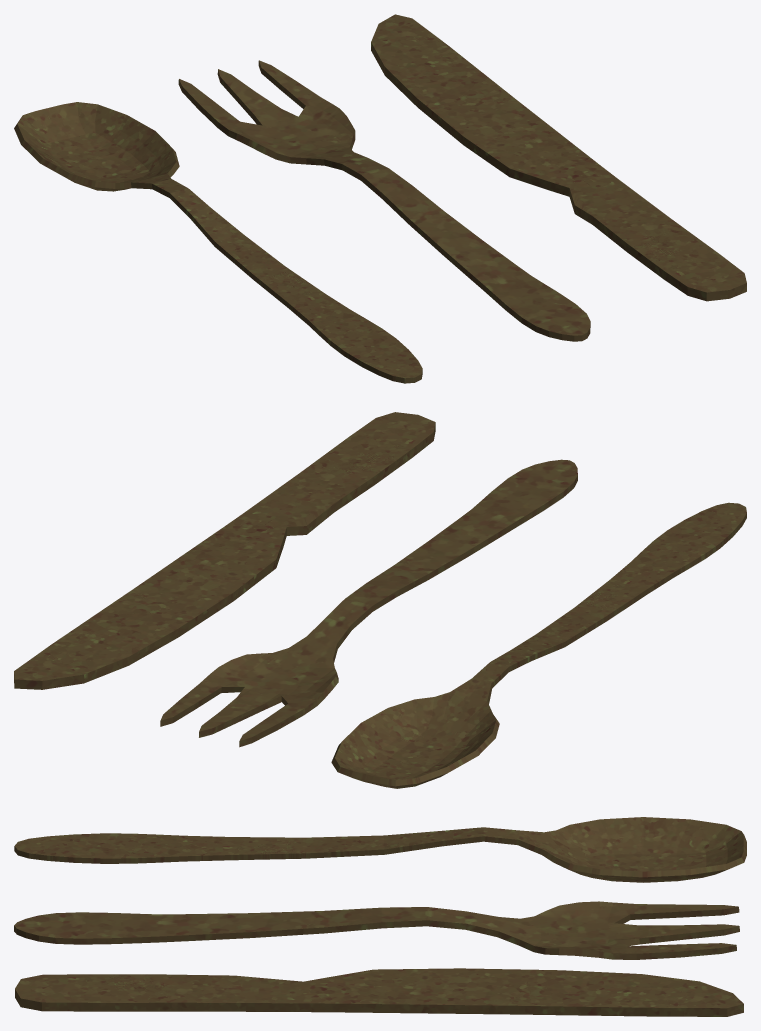
Rendered from utensils.fbx.
3 renders of one model, top to bottom at view 1: azimuth 30°, elevation 25°; view 2: azimuth 150°, elevation 25°; view 3: azimuth 270°, elevation 25°, orthographic. The views are drawn at different scales.
Visible parts, largest first — view 1: Plane.010, Plane.004, Plane.006; view 2: Plane.010, Plane.004, Plane.006; view 3: Plane.010, Plane.004, Plane.006.
Part boxes in pixels (bbox=[...]): Plane.010: bbox=[371, 14, 746, 301]; Plane.004: bbox=[14, 102, 422, 383]; Plane.006: bbox=[178, 60, 590, 341]; Plane.010: bbox=[14, 412, 435, 689]; Plane.004: bbox=[331, 502, 746, 788]; Plane.006: bbox=[160, 459, 577, 747]; Plane.010: bbox=[15, 968, 743, 1016]; Plane.004: bbox=[14, 817, 746, 882]; Plane.006: bbox=[14, 901, 739, 959].
Size of the model in its own units: 49.09 by 4.36 by 75.49.
